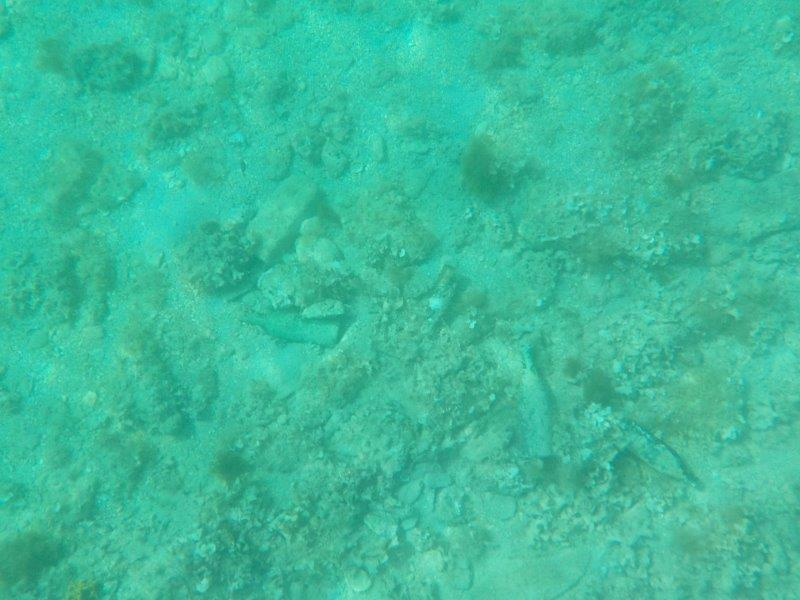bottle: (613, 416, 707, 493), (512, 337, 564, 464), (232, 304, 351, 353)
